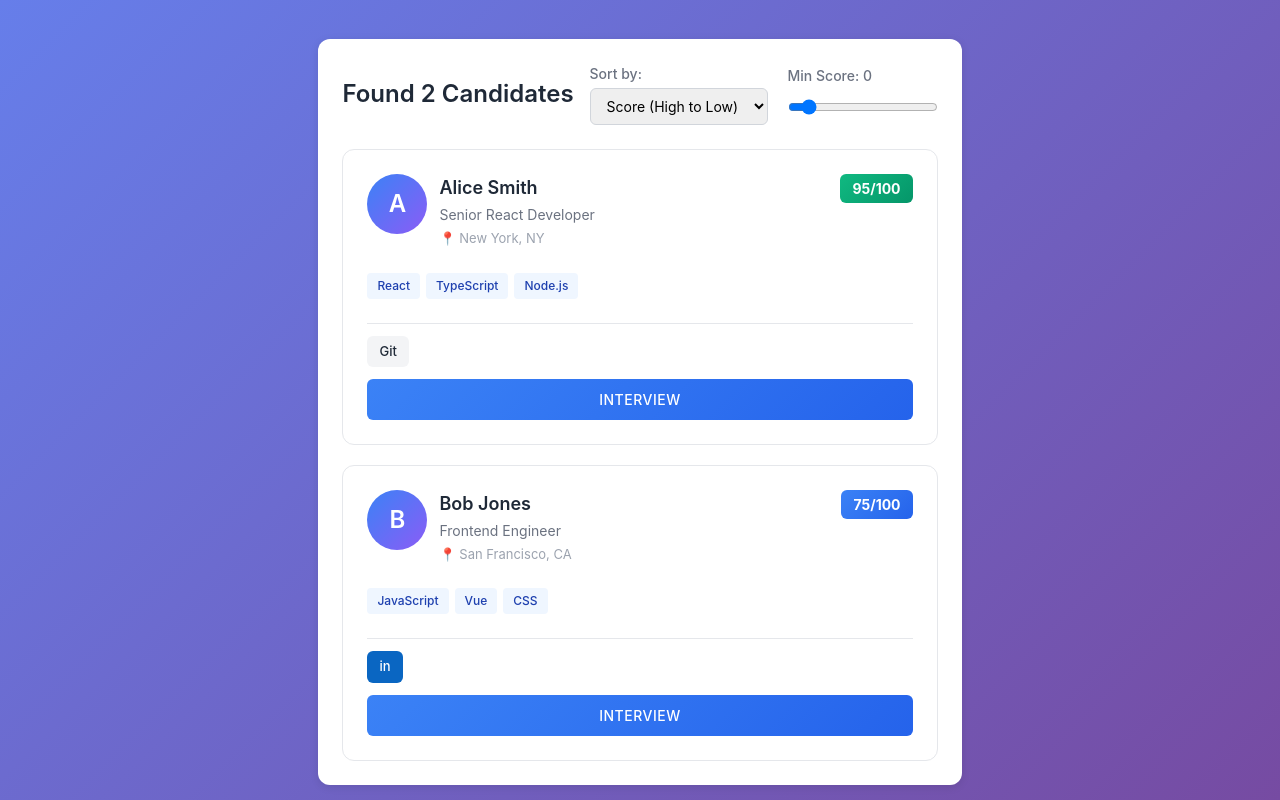
Scenario: CandidateResults › filters candidates by score
Set the slider labelled "Min Score: 0" to "90" at (916, 107), box top-left (788, 90), bottom-right (938, 124)
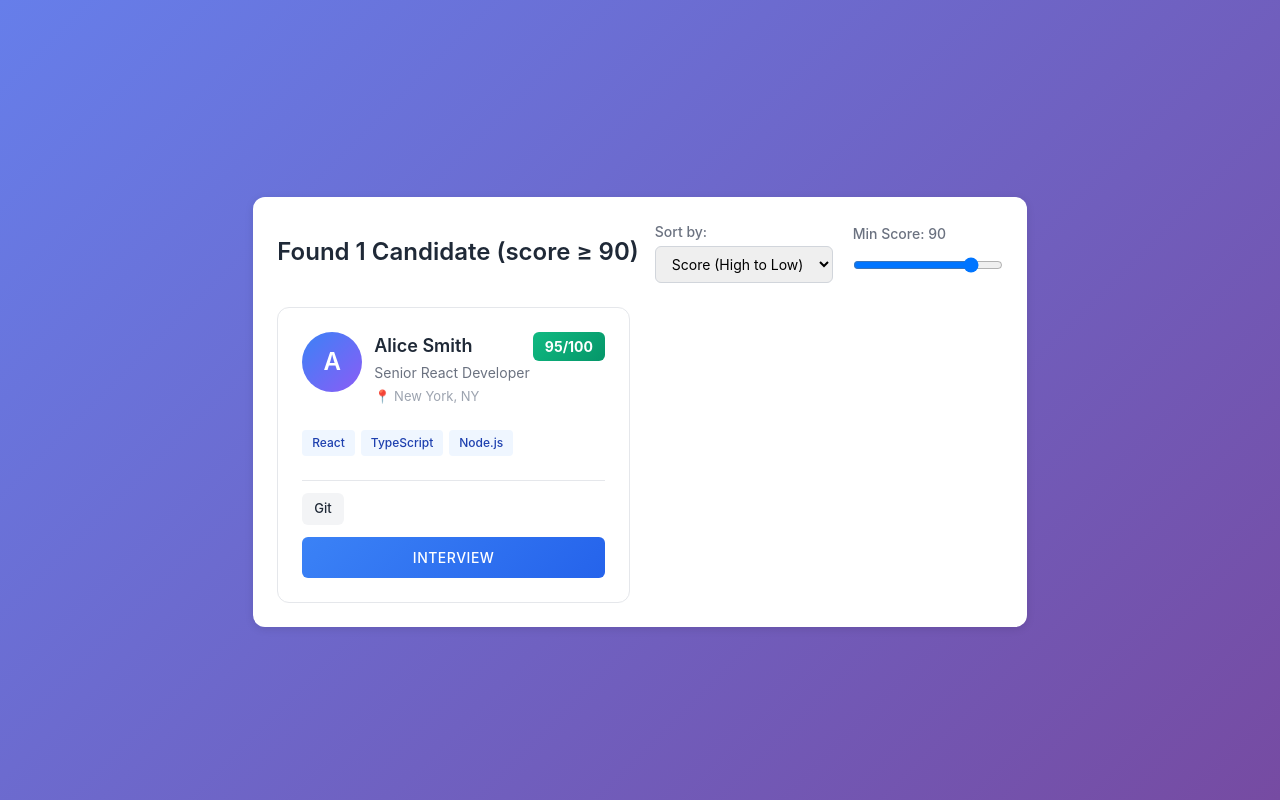
Check: the heading "Alice Smith" is shown, box top-left (374, 332), bottom-right (472, 359)
Check: the heading "Bob Jones" is gone
Check: the heading "Found 1 Candidate (score ≥ 90)" is shown, box top-left (277, 234), bottom-right (639, 270)
